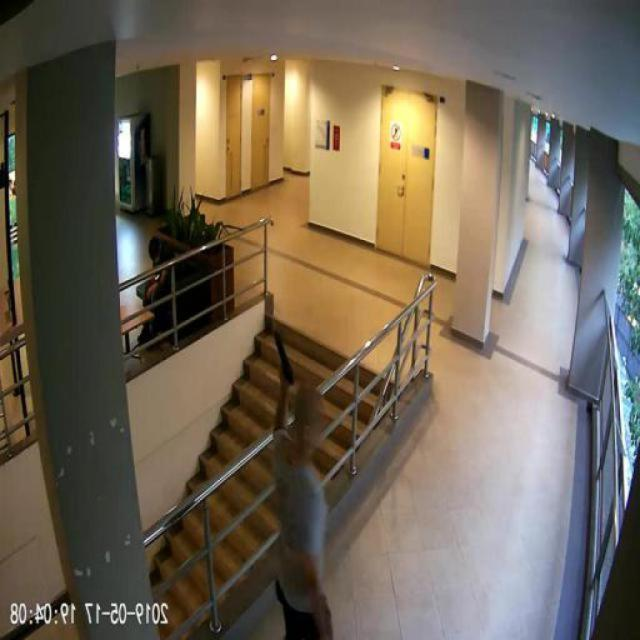pistol: (276, 330, 294, 379)
